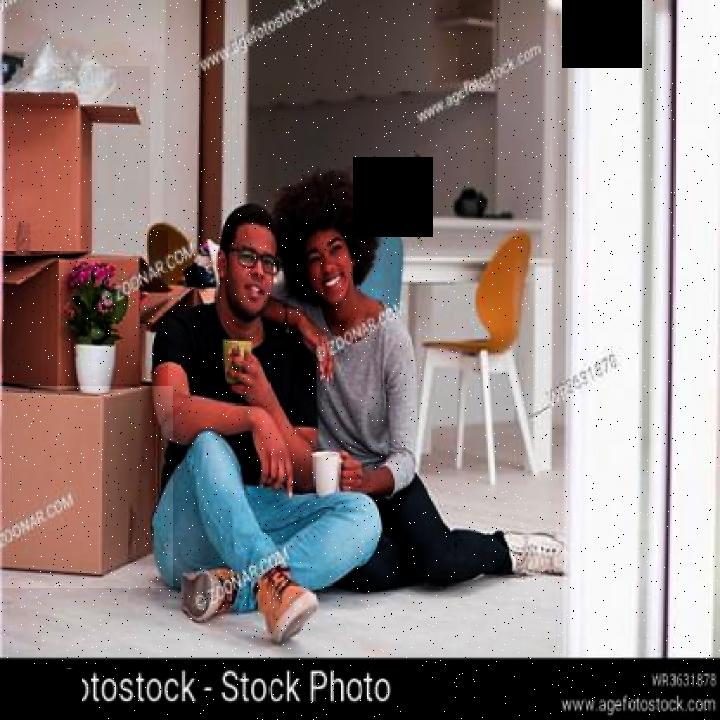box: (0, 386, 173, 588), (2, 66, 150, 263), (0, 230, 168, 397)
